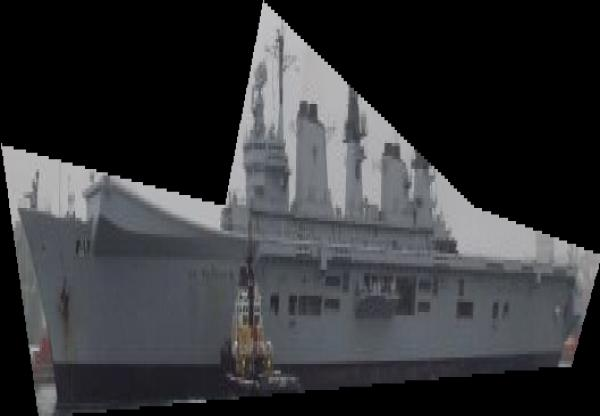Aircraft Carrier: (1, 2, 600, 416)
